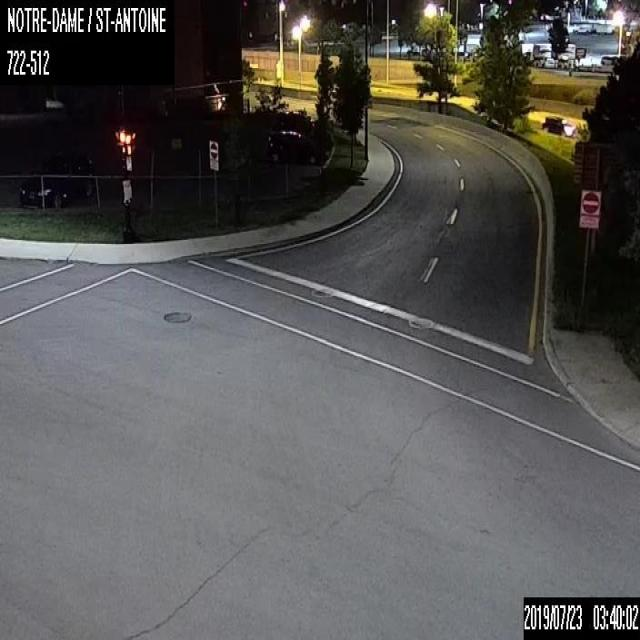vehicle: (20, 148, 94, 208), (266, 130, 326, 165), (542, 112, 574, 136)
